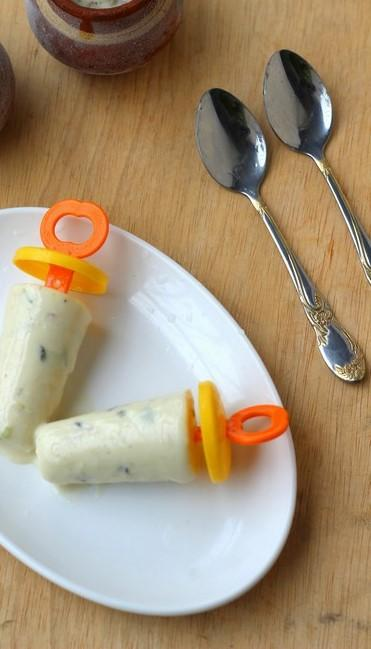Kulfi: (0, 272, 94, 461), (32, 392, 211, 488)
